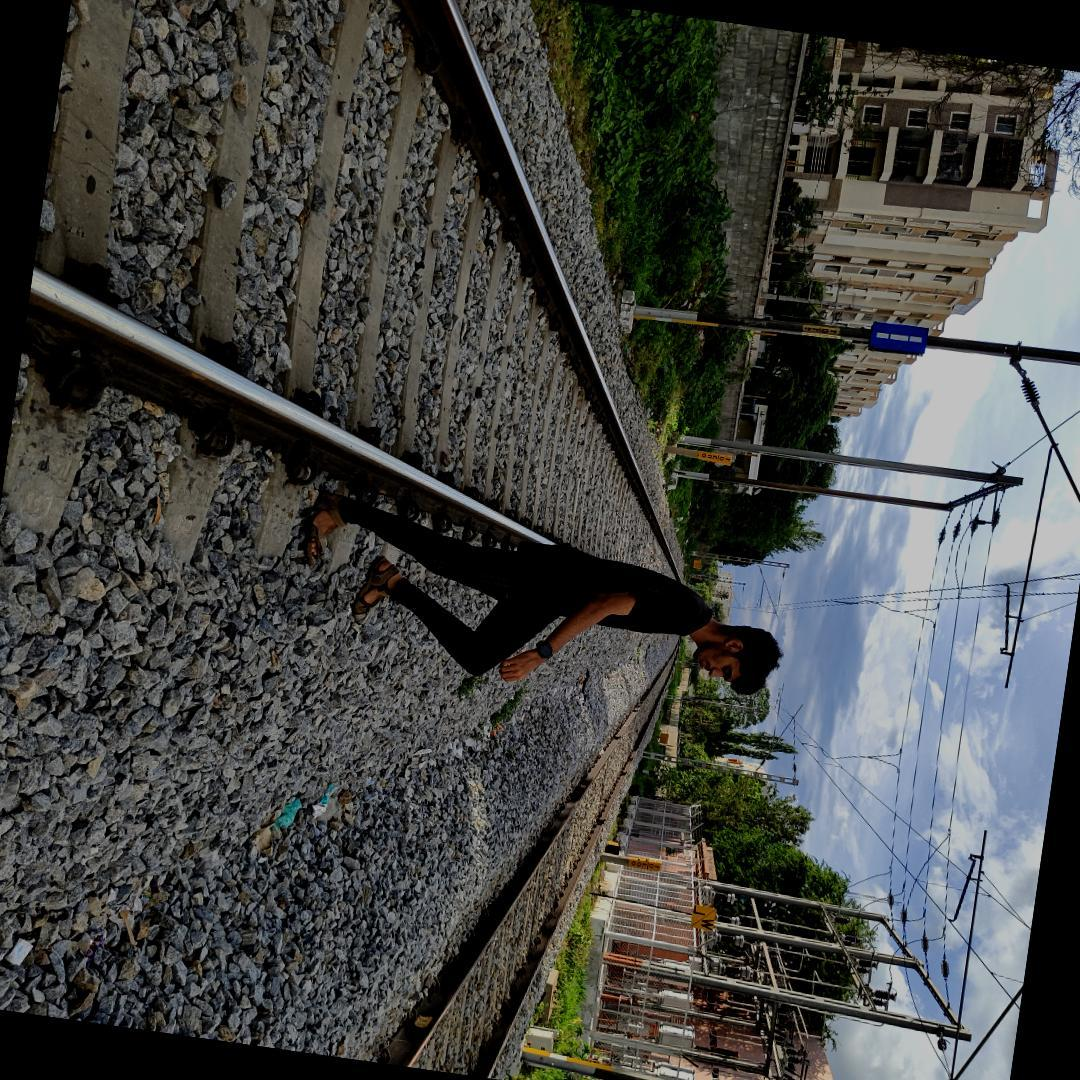standing: (277, 453, 803, 721)
